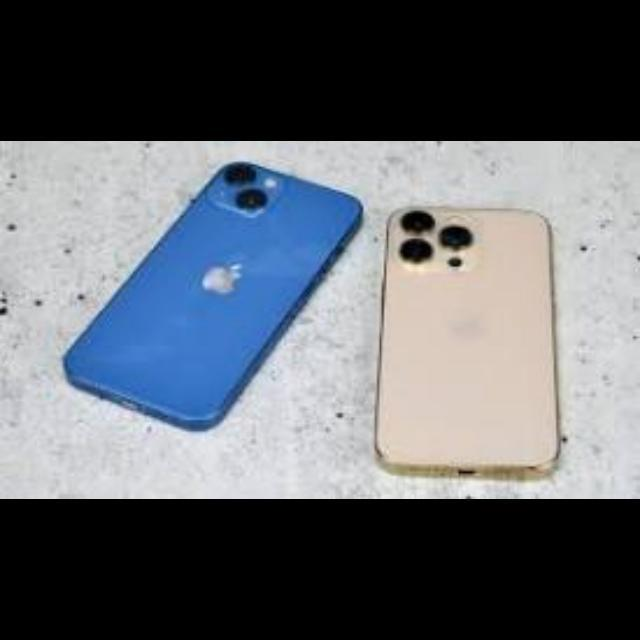PhoneUse: (64, 158, 364, 426), (376, 208, 560, 474)
